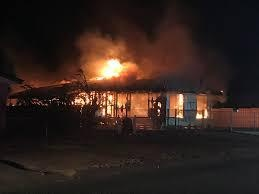fire: (95, 57, 125, 80), (195, 92, 209, 120), (170, 92, 184, 117)
